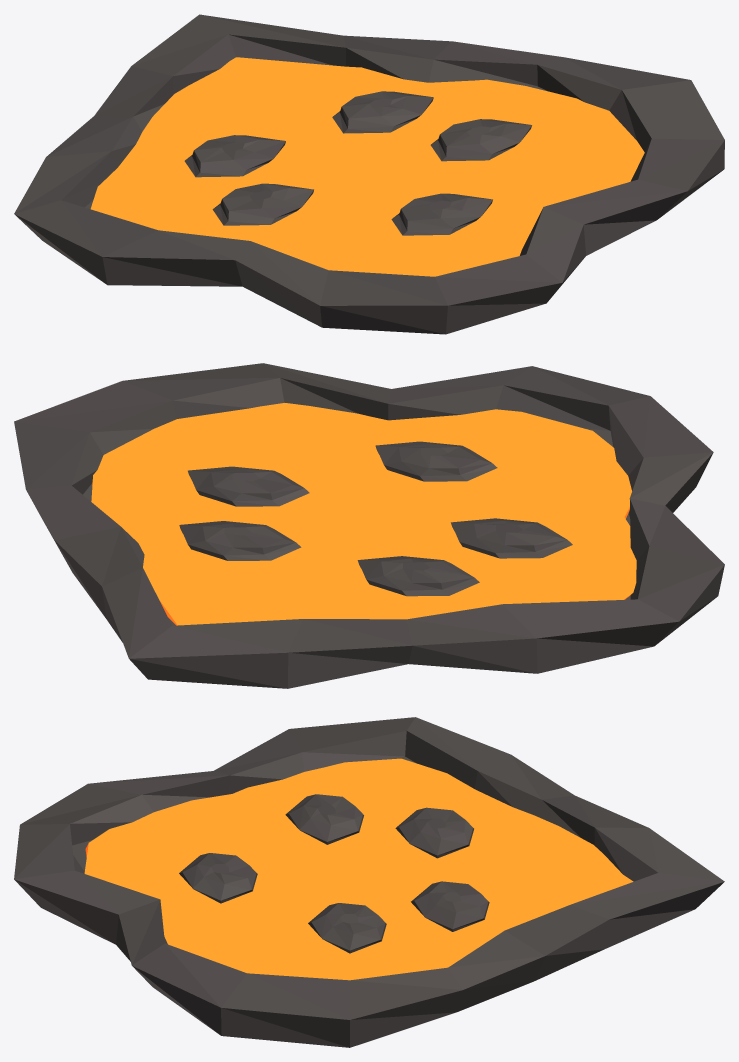
Rendered from lava-pool.glb.
3 views of the same model, one above another, from view 1: azimuth 30°, elevation 25°; view 2: azimuth 150°, elevation 25°; view 3: azimuth 270°, elevation 25° (orthographic). The views are drawn at different scales.
Parts seen in each view (by area): view 1: lava-pool; view 2: lava-pool; view 3: lava-pool.
Part boxes in pixels (<box>): lava-pool: <box>14,14,724,334</box>; lava-pool: <box>14,363,724,688</box>; lava-pool: <box>14,717,724,1047</box>.
Bounding box in the file's own units: 5.01 × 0.2956 × 4.94.
